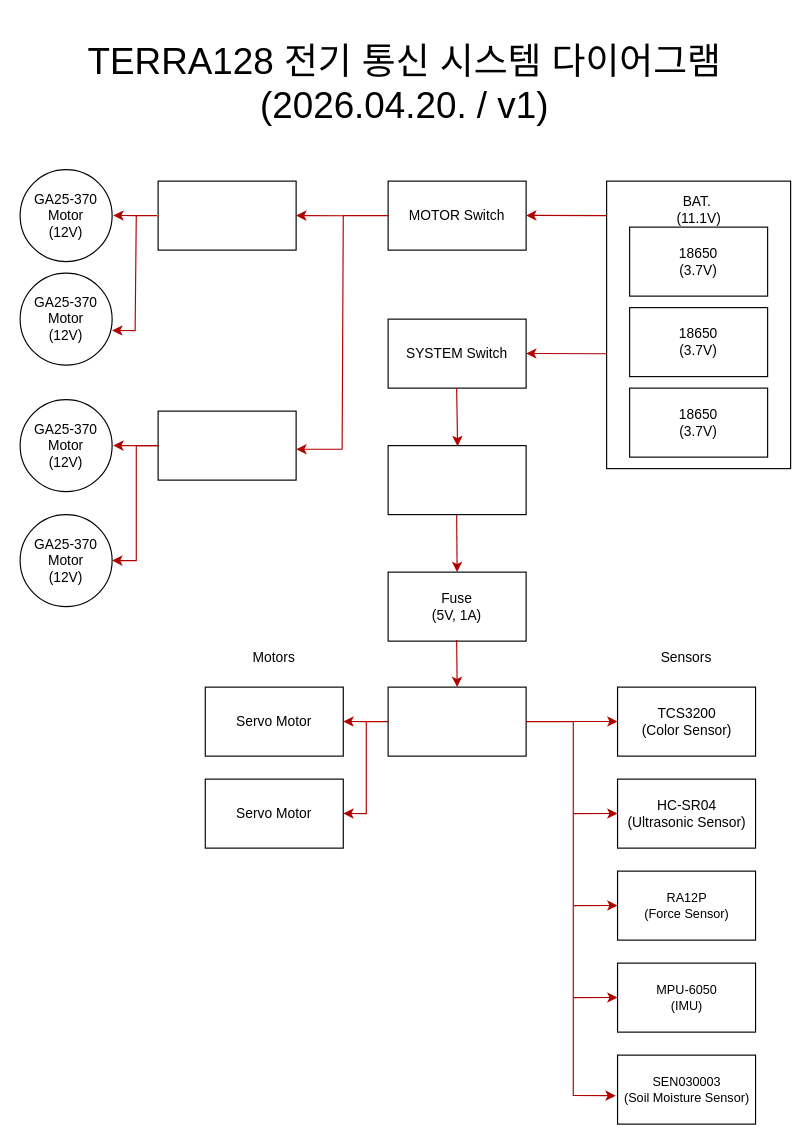
This 811x1144 diagram has some shape labels left out. Here are the shapes that lost their labels. From the top down, the box of each, then its label:
(157, 180, 296, 250): Motor Driver - 1
(157, 410, 296, 480): Motor Driver - 2
(387, 444, 526, 515): DC-DC Converter (11.1V to 5V)
(387, 686, 526, 756): Atmega128 MEGA
